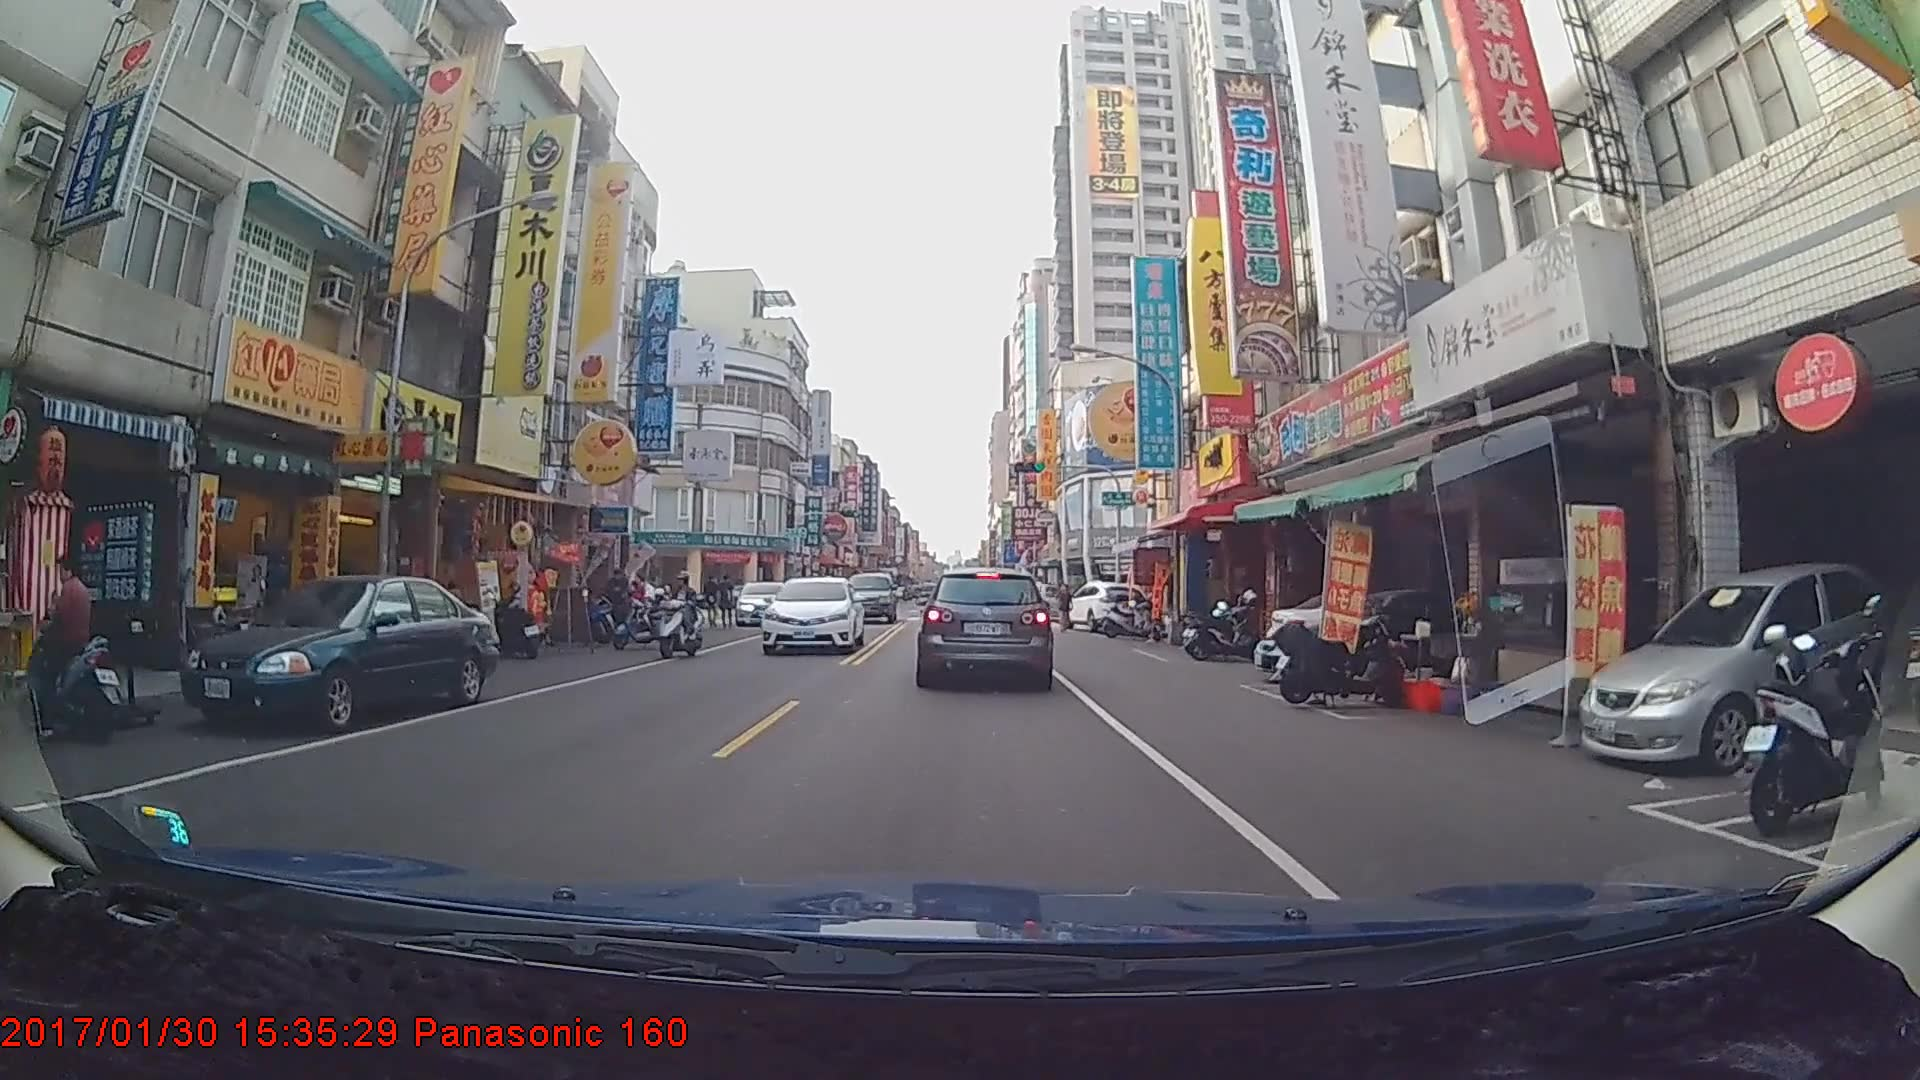pedestrian: (1054, 584, 1075, 636)
rider: (23, 551, 134, 747), (654, 572, 712, 668)
vehicle: (1568, 555, 1907, 769), (178, 573, 495, 736), (918, 566, 1052, 687), (760, 575, 864, 657), (1060, 582, 1154, 637), (840, 574, 898, 628), (735, 580, 784, 625)
